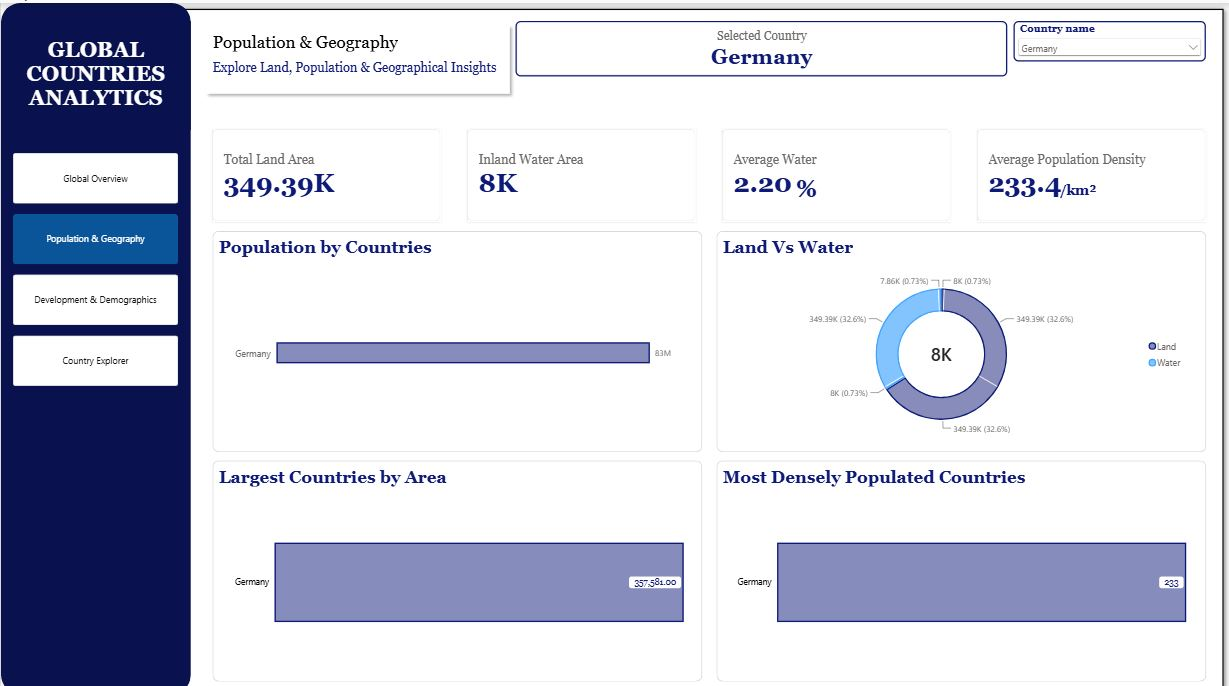

What the dashboard file says about the page in this screenshot:
{"tool":"powerbi","page":{"name":"Population & Geography","canvas":[1920,1080],"ordinal":1},"visuals":[{"type":"shape","box":[0,0,1920.1,1080.4],"z":0},{"type":"shape","box":[312.9,26.9,492.2,124.9],"z":0,"group":"g1"},{"type":"shape","box":[0,0,296.8,1080.4],"z":1000},{"type":"shape","box":[331.1,90.5,457.8,34.4],"z":1000,"group":"g1"},{"type":"pageNavigator","box":[18.1,235.3,258.8,365.6],"z":2000},{"type":"shape","box":[0,27.1,296.8,170.1],"z":3000},{"type":"group","id":"g1","title":"Group 1","box":[312.9,26.9,492.2,124.9],"z":4000},{"type":"cardVisual","fields":{"Data":["country_stats.Total Land Area"]},"box":[331.2,197.3,356.5,144.8],"z":5000},{"type":"cardVisual","fields":{"Data":["country_stats.Inland Water Area"]},"box":[729.9,197.3,356.5,144.8],"z":6000},{"type":"cardVisual","fields":{"Data":["country_stats.Average Water"]},"box":[1128.6,197.3,356.5,144.8],"z":7000},{"type":"shape","box":[331.2,356.5,765.5,345.6],"z":8000},{"type":"cardVisual","fields":{"Data":["country_stats.Average Population Density"]},"box":[1527.4,197.3,356.5,144.8],"z":9000,"group":"g2"},{"type":"shape","box":[1118.4,356.5,765.5,345.6],"z":9000},{"type":"shape","box":[331.2,714.8,765.5,345.6],"z":10000},{"type":"shape","box":[1118.4,714.8,765.5,345.6],"z":11000},{"type":"clusteredBarChart","fields":{"Category":["country_stats.Country name"],"Y":["Sum(country_stats.Population)"]},"box":[345.6,403.6,731.1,285.9],"z":12000},{"type":"hundredPercentStackedBarChart","fields":{"Category":["country_stats.Country name"],"Y":["country_stats.Total Area in km²"]},"box":[345.6,760.1,738.3,285.9],"z":13000},{"type":"textbox","box":[1241.4,269.6,56.1,56.1],"z":14000},{"type":"group","id":"g2","title":"Group 2","box":[1527.4,197.3,356.5,144.8],"z":15000},{"type":"textbox","box":[1657.1,281.9,74.2,38],"z":15000,"group":"g2"},{"type":"donutChart","fields":{"Category":["AreaType.Area Type"],"Y":["country_stats.Total Water Area","country_stats.Total Land Area","country_stats.Area Value"]},"box":[1129.2,403.6,738.3,293.2],"z":16000},{"type":"hundredPercentStackedBarChart","fields":{"Category":["country_stats.Country name"],"Y":["country_stats.Density"]},"box":[1129.2,760.1,738.3,285.9],"z":17000},{"type":"slicer","fields":{"Values":["country_stats.Country name"]},"box":[1583.5,27.1,300.4,63.3],"z":18000},{"type":"cardVisual","title":"Country ","fields":{"Data":["country_stats.Country Names"]},"box":[804.2,28.1,769,86.7],"z":19001}]}

Visuals, with their boxes in screenshot pixels (x1, y1, x2, y2), scaled from the page's 1920x1080 canvas onto the 1229x686 screenshot:
shape: 0:0:1228:685
shape: 200:17:515:96
shape: 0:0:190:685
shape: 212:57:505:79
pageNavigator: 12:149:177:382
shape: 0:17:190:125
"Group 1" group: 200:17:515:96
cardVisual - country_stats.Total Land Area: 212:125:440:217
cardVisual - country_stats.Inland Water Area: 467:125:695:217
cardVisual - country_stats.Average Water: 722:125:951:217
shape: 212:226:702:446
cardVisual - country_stats.Average Population Density: 978:125:1206:217
shape: 716:226:1206:446
shape: 212:454:702:674
shape: 716:454:1206:674
clusteredBarChart - country_stats.Country name x Sum(country_stats.Population): 221:256:689:438
hundredPercentStackedBarChart - country_stats.Country name x country_stats.Total Area in km²: 221:483:694:664
textbox: 795:171:831:207
"Group 2" group: 978:125:1206:217
textbox: 1061:179:1108:203
donutChart - AreaType.Area Type x country_stats.Total Water Area: 723:256:1195:443
hundredPercentStackedBarChart - country_stats.Country name x country_stats.Density: 723:483:1195:664
slicer - country_stats.Country name: 1014:17:1206:57
"Country " cardVisual: 515:18:1007:73
